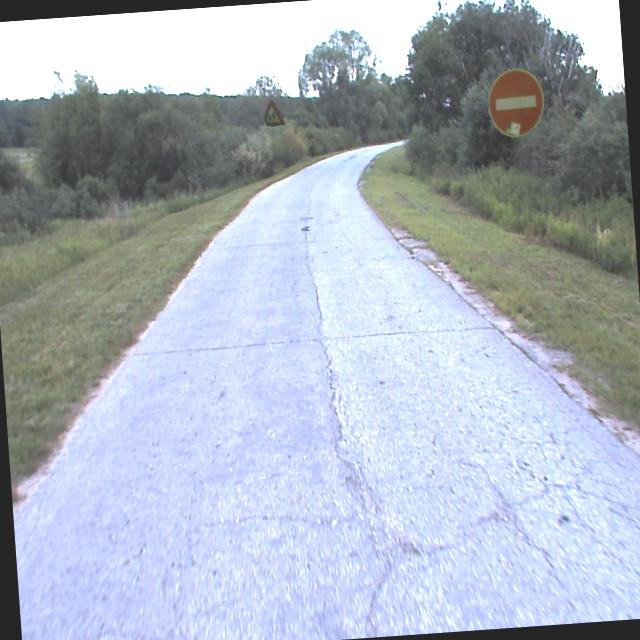road: (13, 138, 640, 640)
